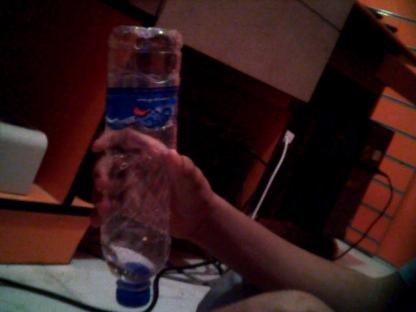Plastic Bottle: (100, 24, 183, 312)
